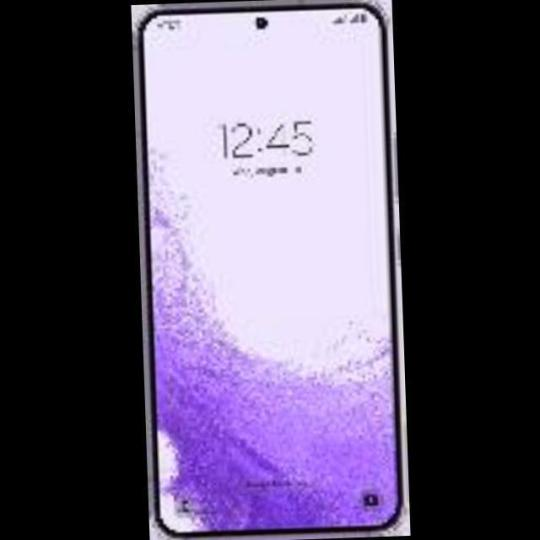phone: (132, 6, 407, 540)
